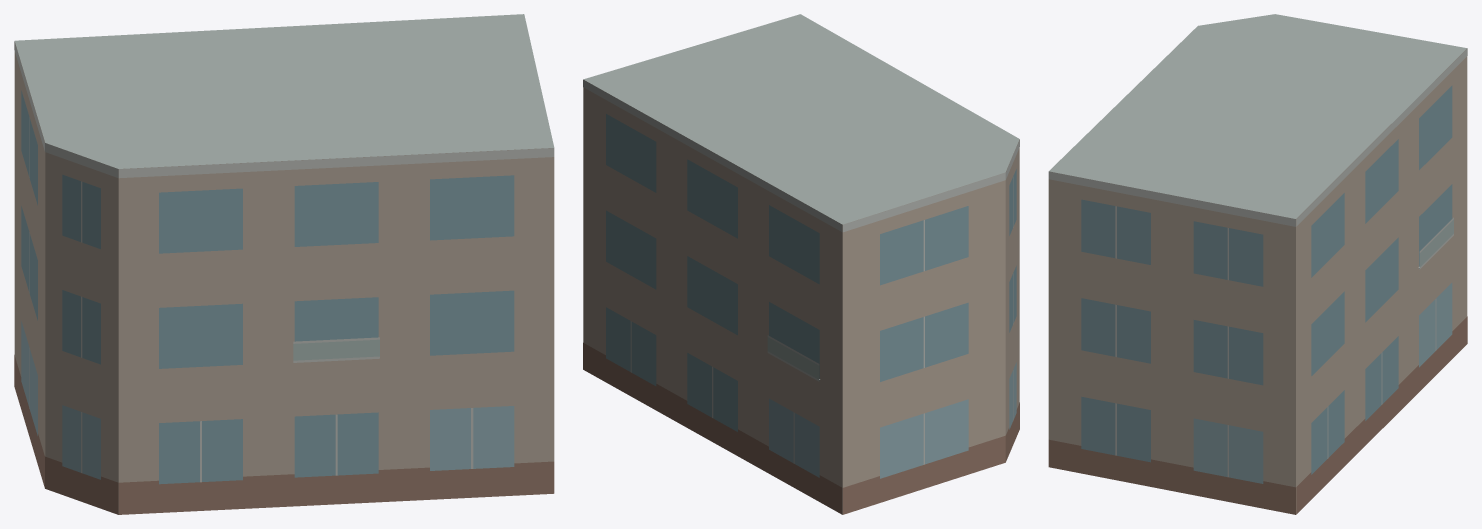
Rendered from survey-upis-32680245.glb.
3 views of the same model, side by side, from view 1: azimuth 30°, elevation 25°; view 2: azimuth 150°, elevation 25°; view 3: azimuth 270°, elevation 25° (orthographic). The views are drawn at different scales.
Parts seen in each view (by area): view 1: survey-upis-32680245.tmp; view 2: survey-upis-32680245.tmp; view 3: survey-upis-32680245.tmp.
Part boxes in pixels (bbox=[...]): survey-upis-32680245.tmp: bbox=[14, 14, 554, 514]; survey-upis-32680245.tmp: bbox=[583, 14, 1019, 514]; survey-upis-32680245.tmp: bbox=[1048, 14, 1467, 514].
Bounding box in the file's own units: 13.61 × 9.15 × 11.75.
